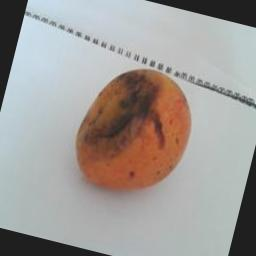Mango Rotten: (64, 44, 209, 208)
